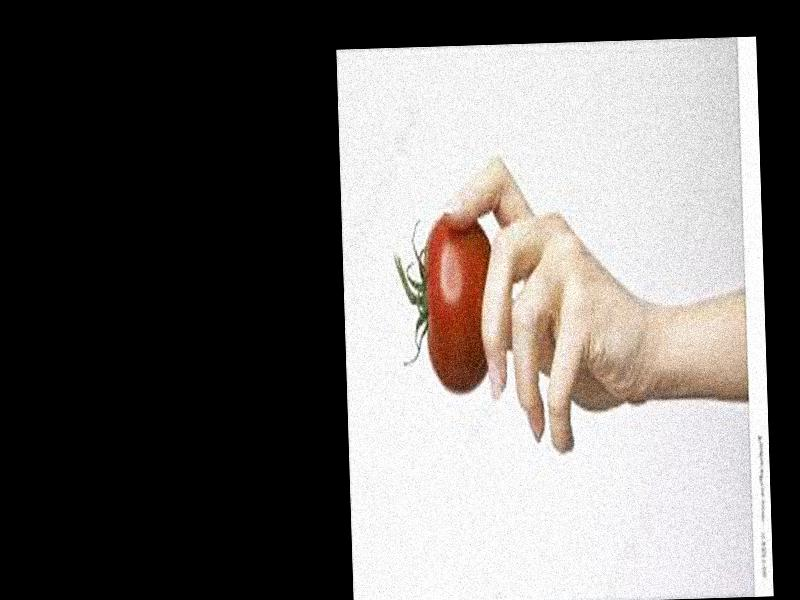Tomato: (394, 214, 494, 393)
